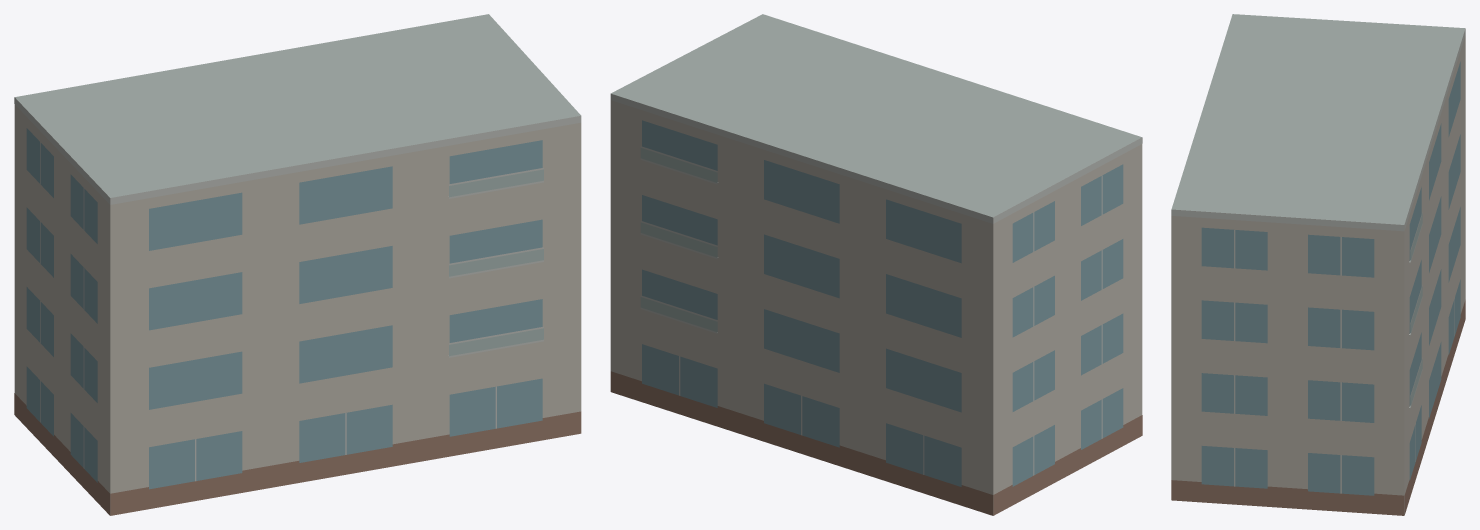
File: survey-upis-32765214.glb
3 renders of one model, left to right at view 1: azimuth 30°, elevation 25°; view 2: azimuth 150°, elevation 25°; view 3: azimuth 270°, elevation 25°, orthographic. The views are drawn at different scales.
Visible parts, largest first — view 1: survey-upis-32765214.tmp; view 2: survey-upis-32765214.tmp; view 3: survey-upis-32765214.tmp.
Part boxes in pixels (x1,y1,x2,y2): survey-upis-32765214.tmp: (14, 14, 581, 515); survey-upis-32765214.tmp: (610, 14, 1142, 515); survey-upis-32765214.tmp: (1171, 14, 1465, 515).
Bounding box in the file's own units: 17.44 × 11.2 × 10.28.
